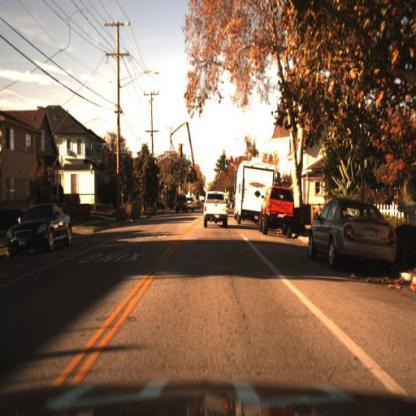car: (309, 199, 398, 276), (6, 200, 75, 260), (256, 183, 298, 237), (200, 195, 229, 235), (174, 196, 188, 216)
truck: (232, 150, 279, 227), (234, 154, 278, 228)
